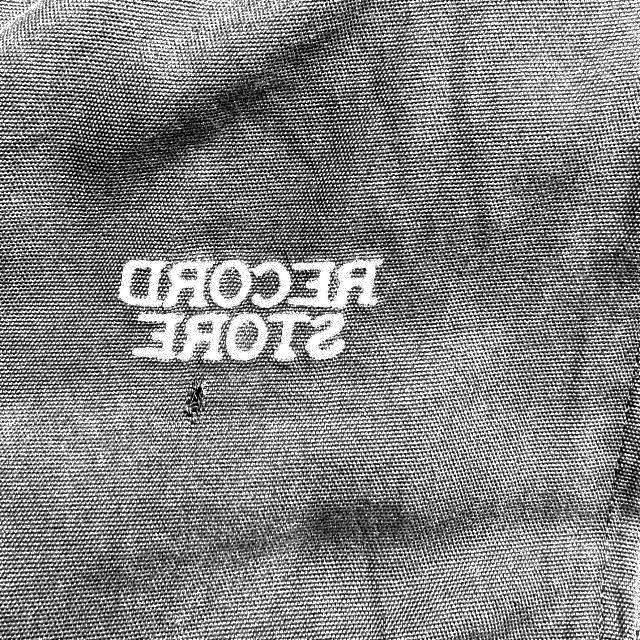Hole: (176, 376, 214, 424)
